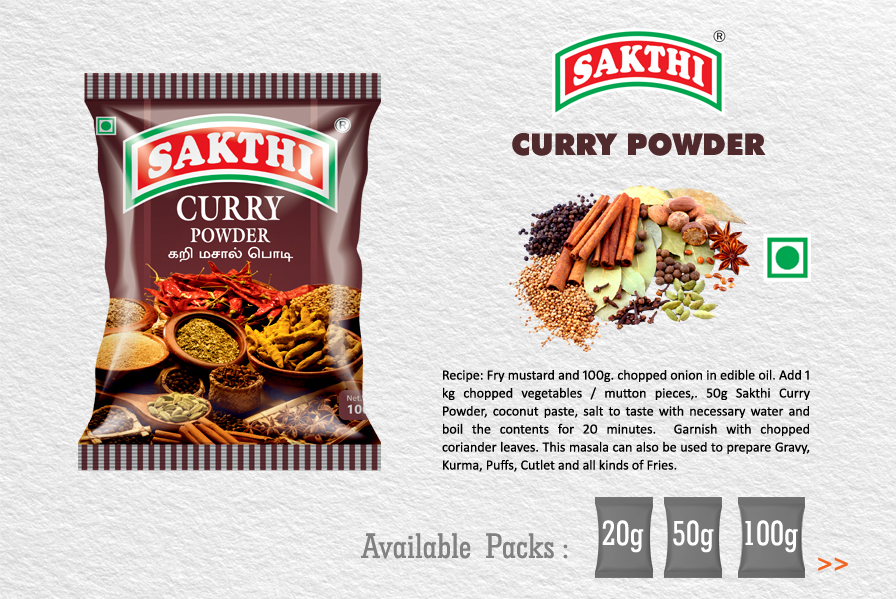VEG: (761, 230, 813, 285), (94, 116, 119, 140)
